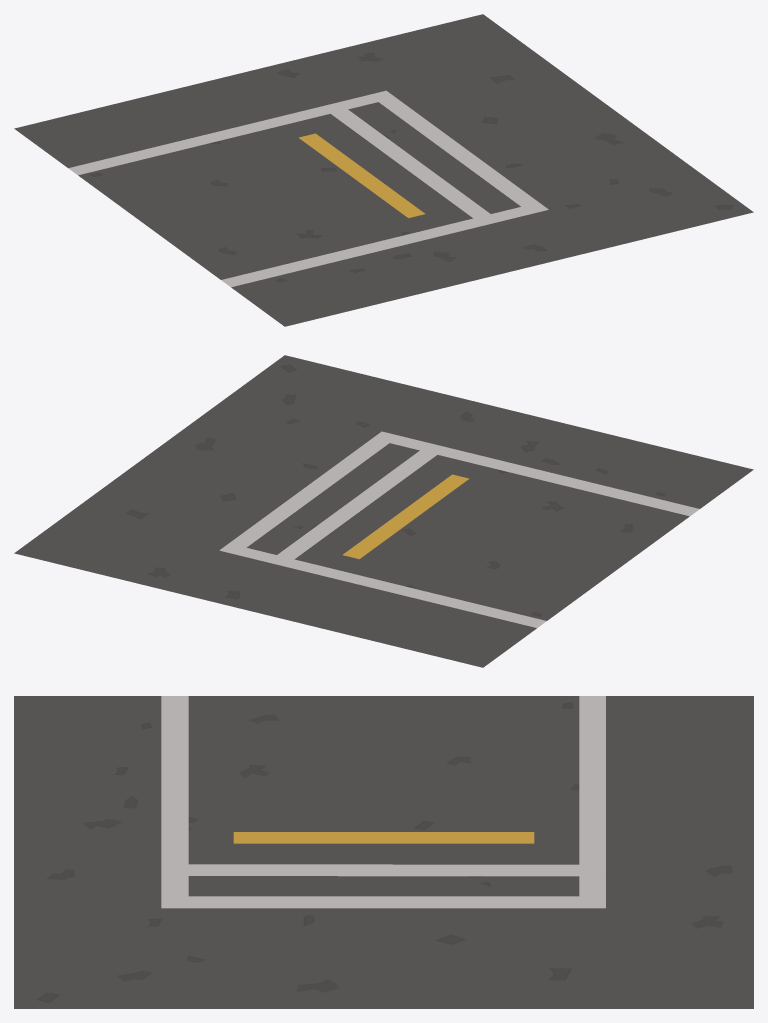
The model's file is SM_Env_Ground_Lines_End_01.fbx.
3 views of the same model, one above another, from view 1: azimuth 30°, elevation 25°; view 2: azimuth 150°, elevation 25°; view 3: azimuth 270°, elevation 25° (orthographic). The views are drawn at different scales.
Parts seen in each view (by area): view 1: SM_Env_Ground_Lines_End_01; view 2: SM_Env_Ground_Lines_End_01; view 3: SM_Env_Ground_Lines_End_01.
Part boxes in pixels (left/top/right/bottom): SM_Env_Ground_Lines_End_01: left=14, top=14, right=753, bottom=326; SM_Env_Ground_Lines_End_01: left=14, top=355, right=753, bottom=667; SM_Env_Ground_Lines_End_01: left=14, top=696, right=753, bottom=1008.
Size of the model in its own units: 1000 by 1.82e-12 by 1000.
